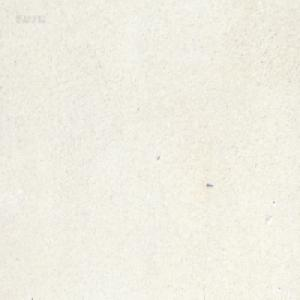Nail: (206, 182, 213, 187)
